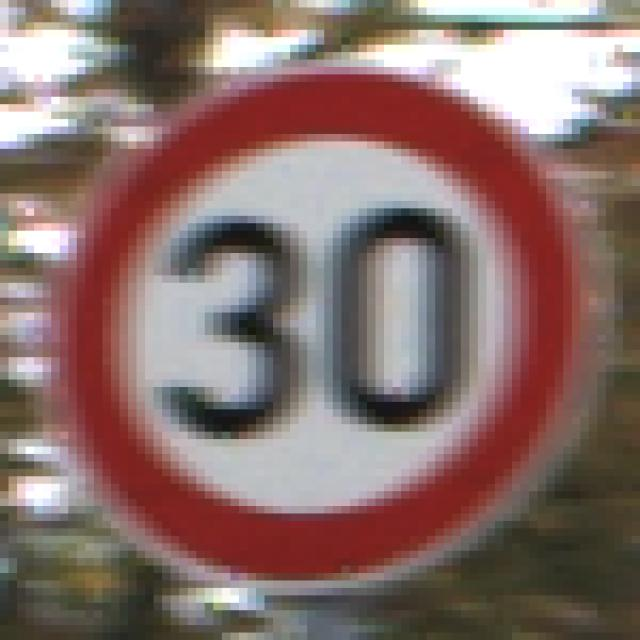Speed Limit -30-: (47, 56, 584, 584)
